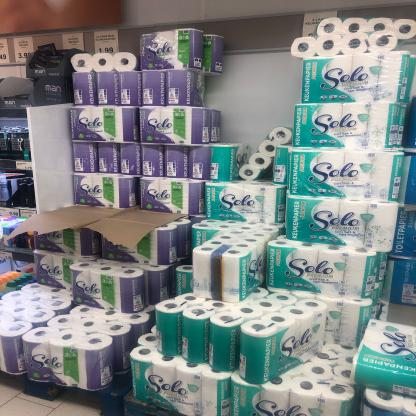prtg: (95, 31, 120, 53), (14, 38, 35, 63), (63, 34, 86, 53)
